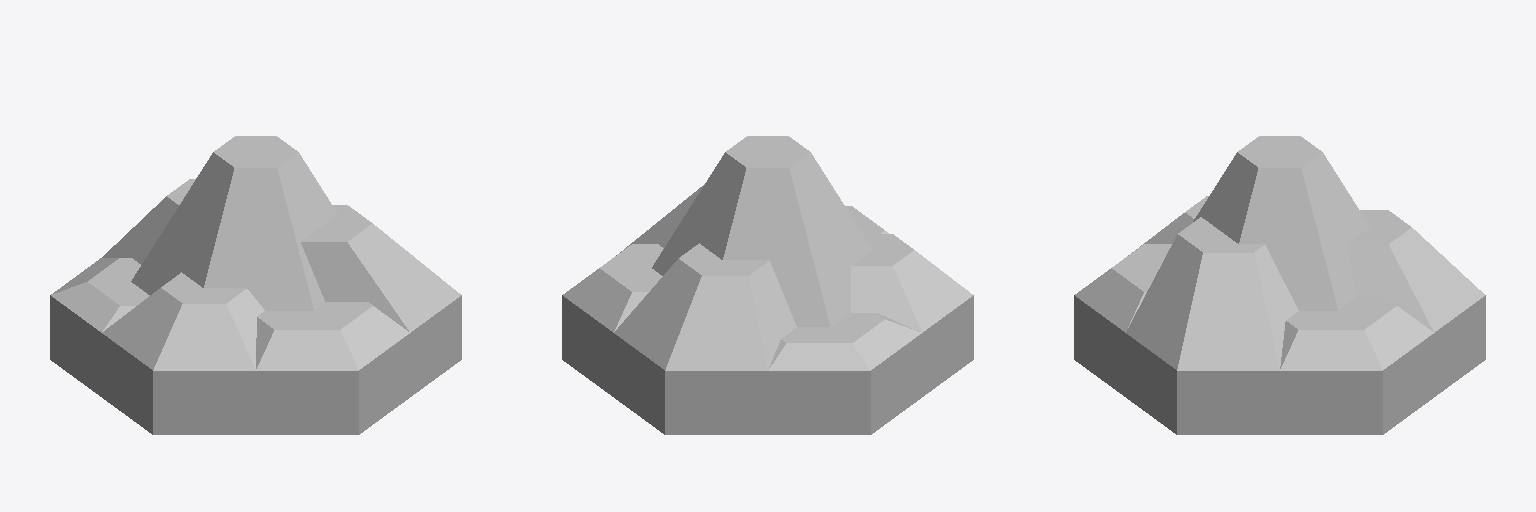
The model's file is stone_hill.obj.
3 renders of one model, left to right at view 1: azimuth 30°, elevation 25°; view 2: azimuth 150°, elevation 25°; view 3: azimuth 270°, elevation 25°, orthographic.
Parts seen in each view (by area): view 1: rockLarge, stone_hill; view 2: rockLarge, stone_hill; view 3: rockLarge, stone_hill.
Boxes of the visible parts, box(x1,y1,x2,y2) form: rockLarge: box(51, 136, 460, 370); stone_hill: box(50, 295, 461, 434); rockLarge: box(563, 136, 972, 370); stone_hill: box(562, 295, 973, 434); rockLarge: box(1075, 136, 1484, 370); stone_hill: box(1074, 295, 1485, 434).
Bounding box in the file's own units: 1 × 0.6432 × 1.15.